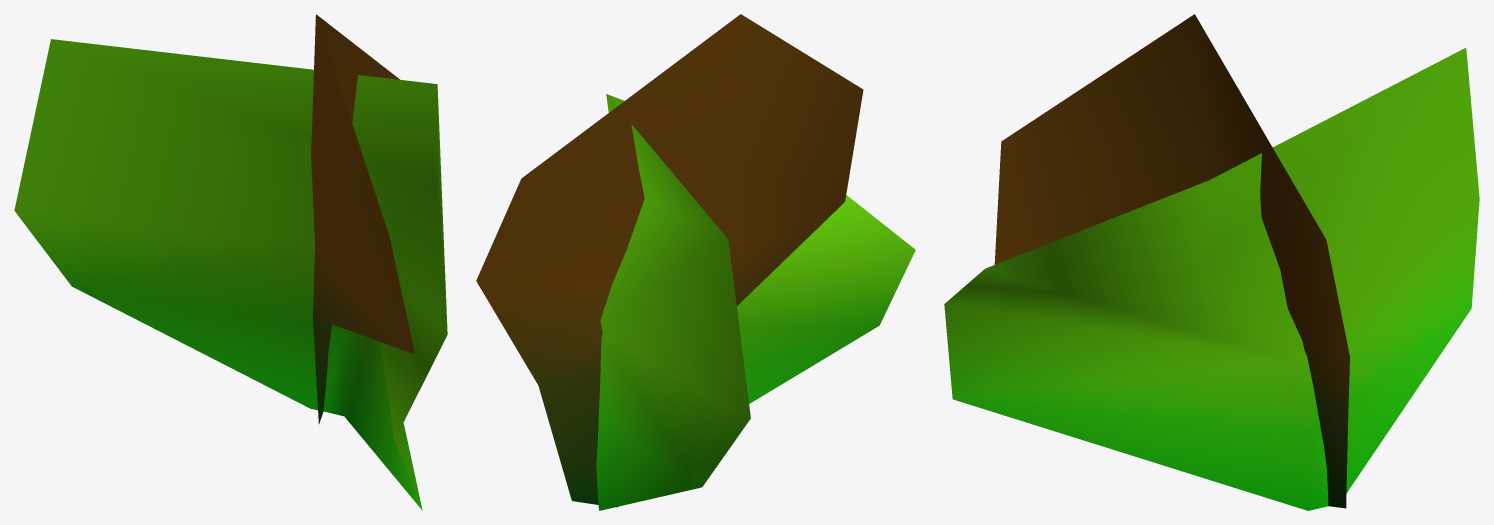
The model's file is Var1Hi23.fbx.
3 renders of one model, left to right at view 1: azimuth 30°, elevation 25°; view 2: azimuth 150°, elevation 25°; view 3: azimuth 270°, elevation 25°, orthographic. The views are drawn at different scales.
Visible parts, largest first — view 1: bend1; view 2: bend1; view 3: bend1.
Boxes of the visible parts, x1,y1,x2,y2 form: bend1: [14, 14, 447, 510]; bend1: [476, 14, 915, 510]; bend1: [944, 14, 1479, 510].
Bounding box in the file's own units: 1.03 × 1.35 × 1.42.
